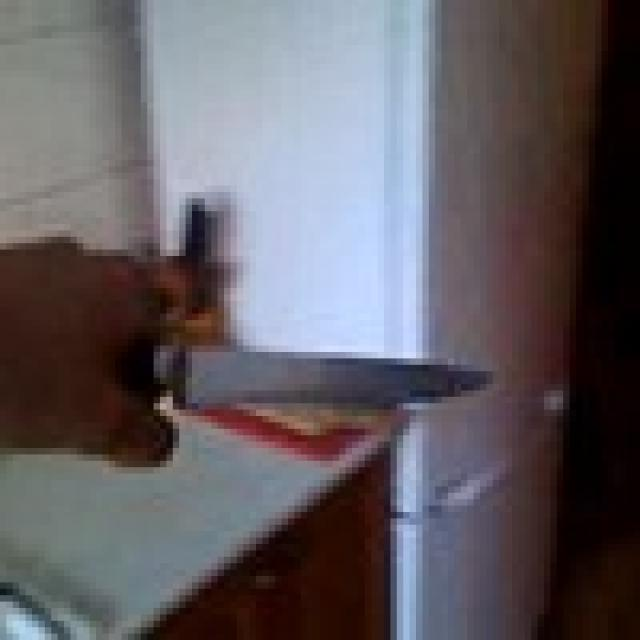Knife: (140, 320, 506, 435)
